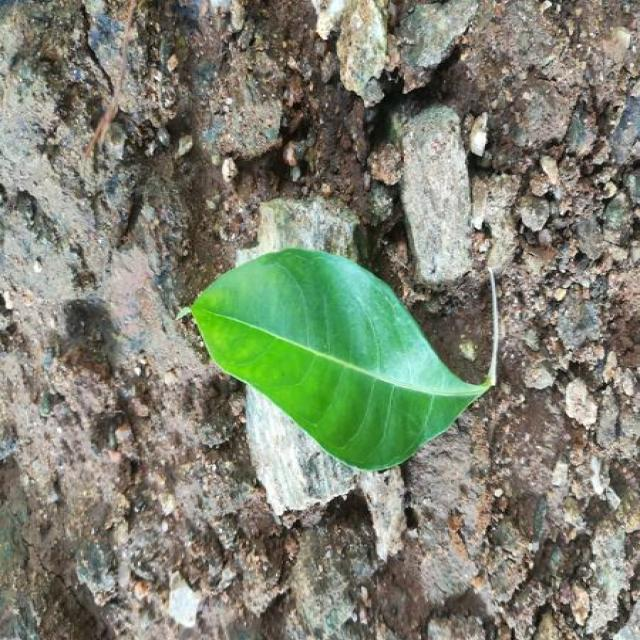henna: (192, 249, 490, 470)
